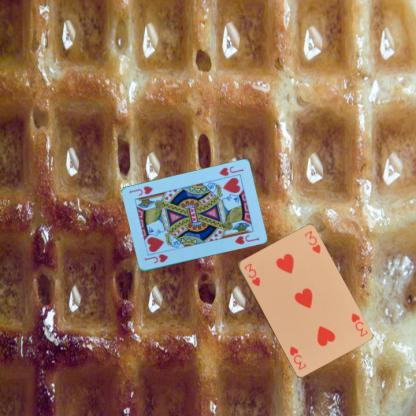3h: (348, 310, 368, 338), (242, 260, 261, 288)
Jh: (142, 251, 169, 265), (217, 164, 244, 178)
